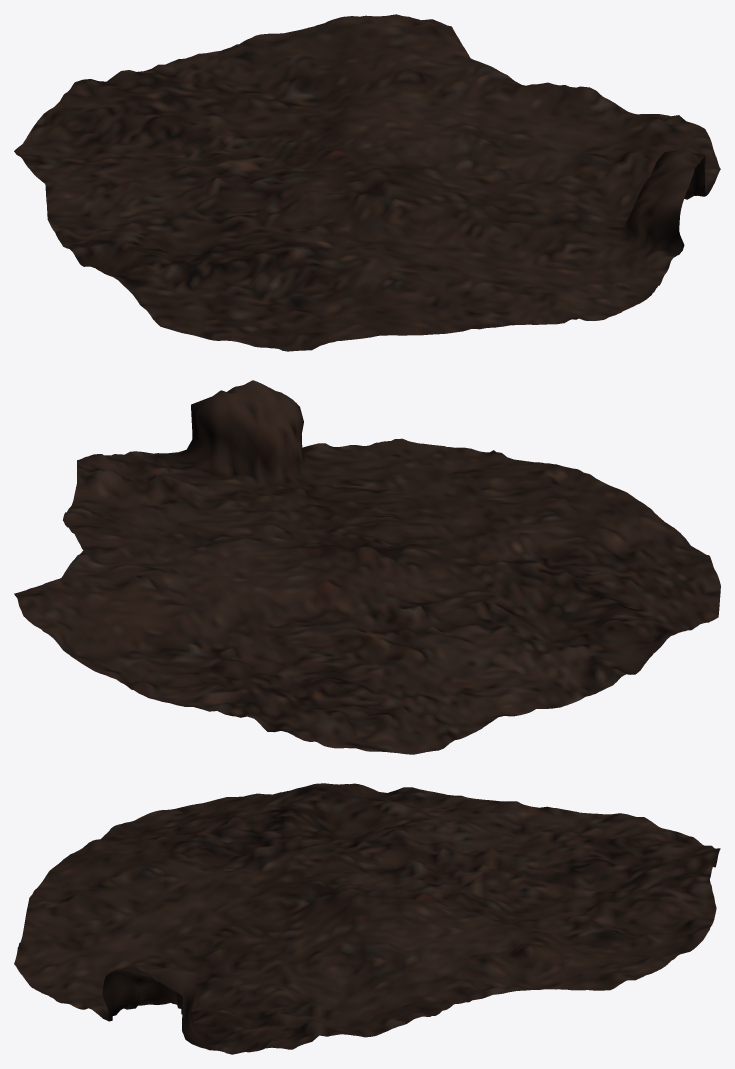
The model's file is ground-sample-coarse-3.glb.
The picture shows the model from 3 angles, top to bottom: view 1: azimuth 30°, elevation 25°; view 2: azimuth 150°, elevation 25°; view 3: azimuth 270°, elevation 25°; orthographic projection. The views are drawn at different scales.
Parts seen in each view (by area): view 1: Probe_grob_2; view 2: Probe_grob_2; view 3: Probe_grob_2.
Part boxes in pixels (x1=…): Probe_grob_2: x1=14, y1=14, x2=720, y2=351; Probe_grob_2: x1=14, y1=380, x2=720, y2=754; Probe_grob_2: x1=14, y1=783, x2=720, y2=1054.
Bounding box in the file's own units: 0.057 × 0.00697 × 0.0594.
